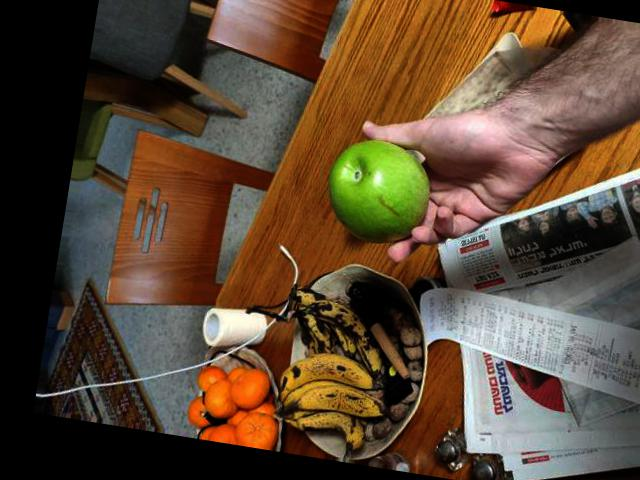apple: (310, 129, 442, 253)
